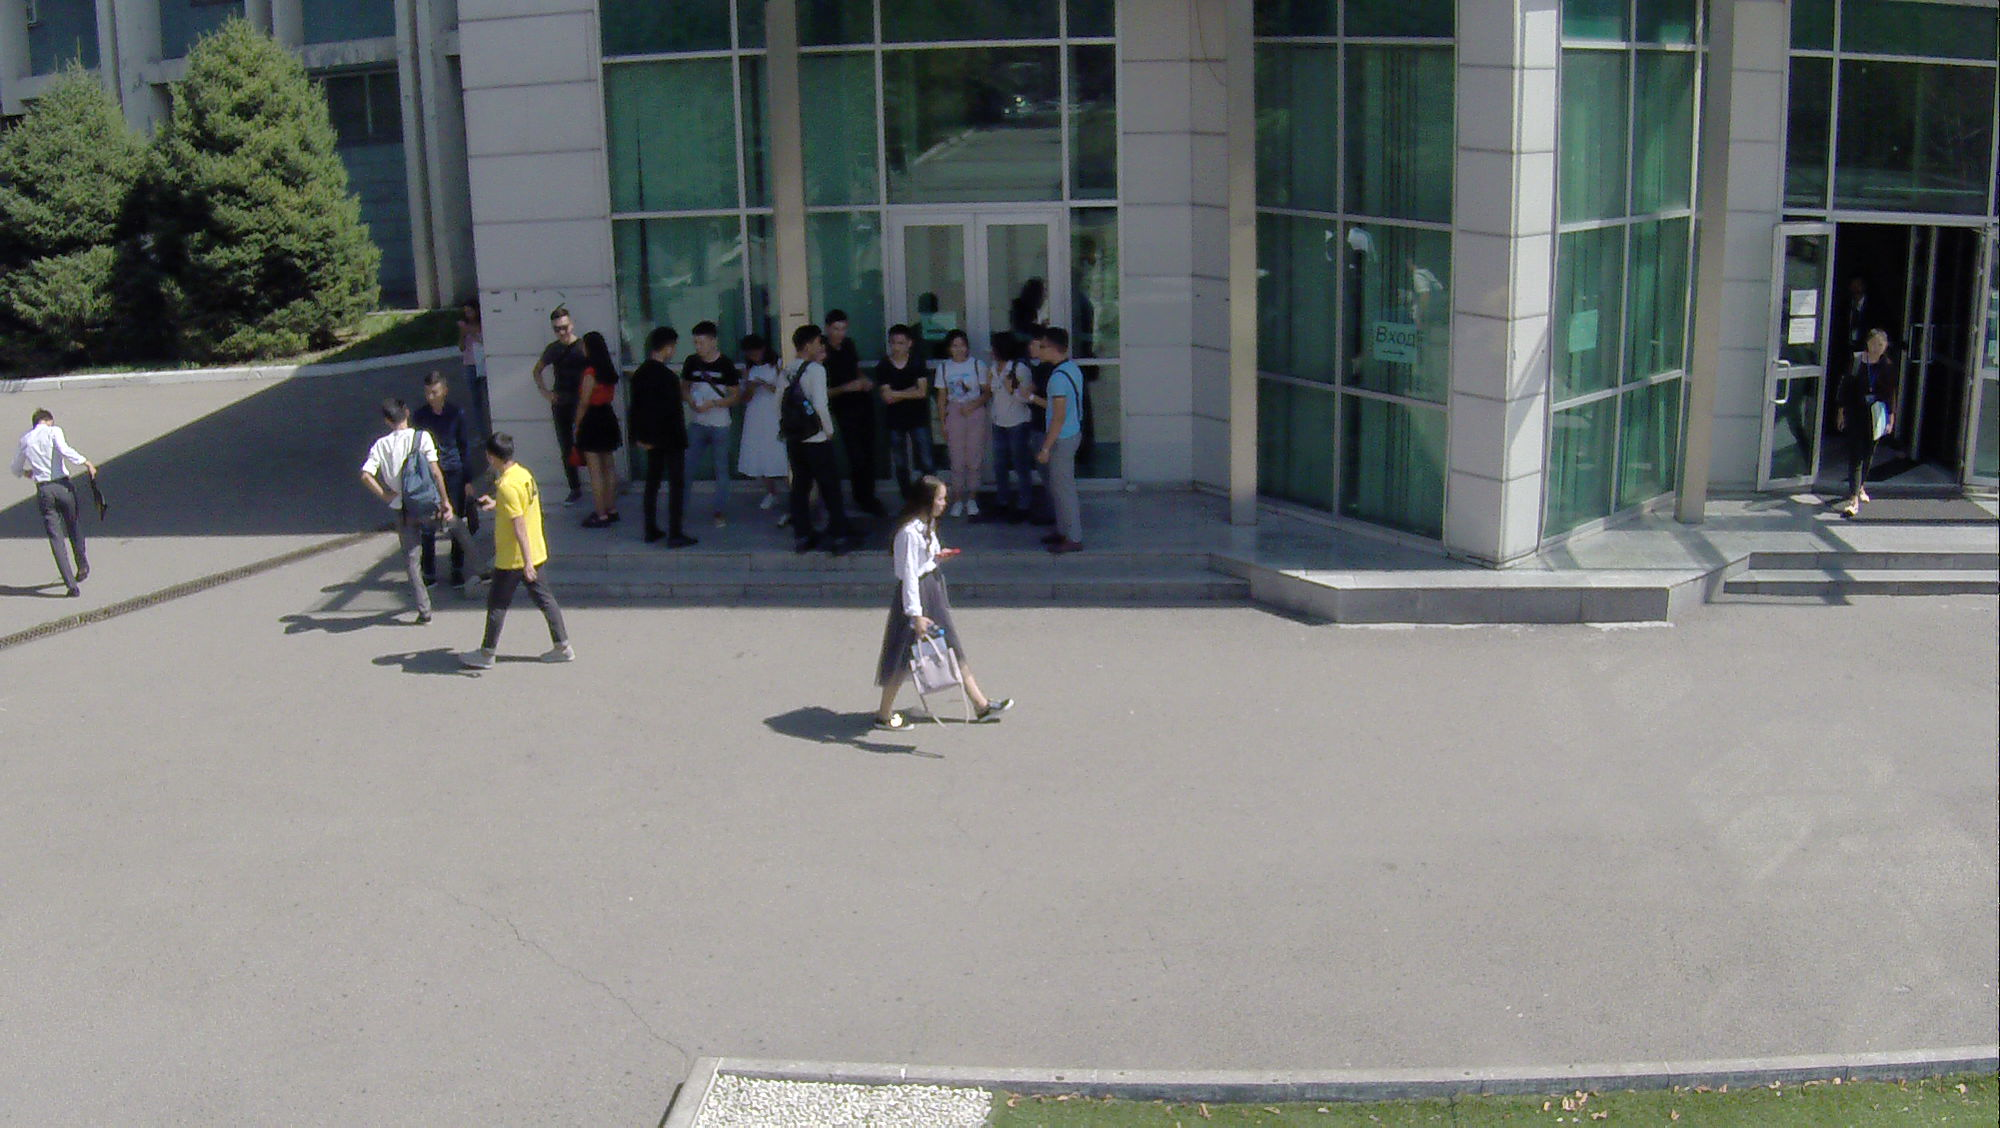person: (860, 470, 1016, 737), (350, 387, 472, 626), (468, 430, 576, 672), (10, 389, 101, 608), (778, 312, 845, 558), (418, 369, 484, 604), (669, 316, 732, 539), (634, 324, 692, 565), (1832, 320, 1893, 539), (531, 299, 594, 504), (1028, 317, 1080, 555), (573, 326, 628, 529), (731, 335, 793, 512), (935, 321, 988, 521), (981, 326, 1032, 525), (875, 317, 935, 479), (808, 312, 861, 490), (457, 285, 503, 435)
